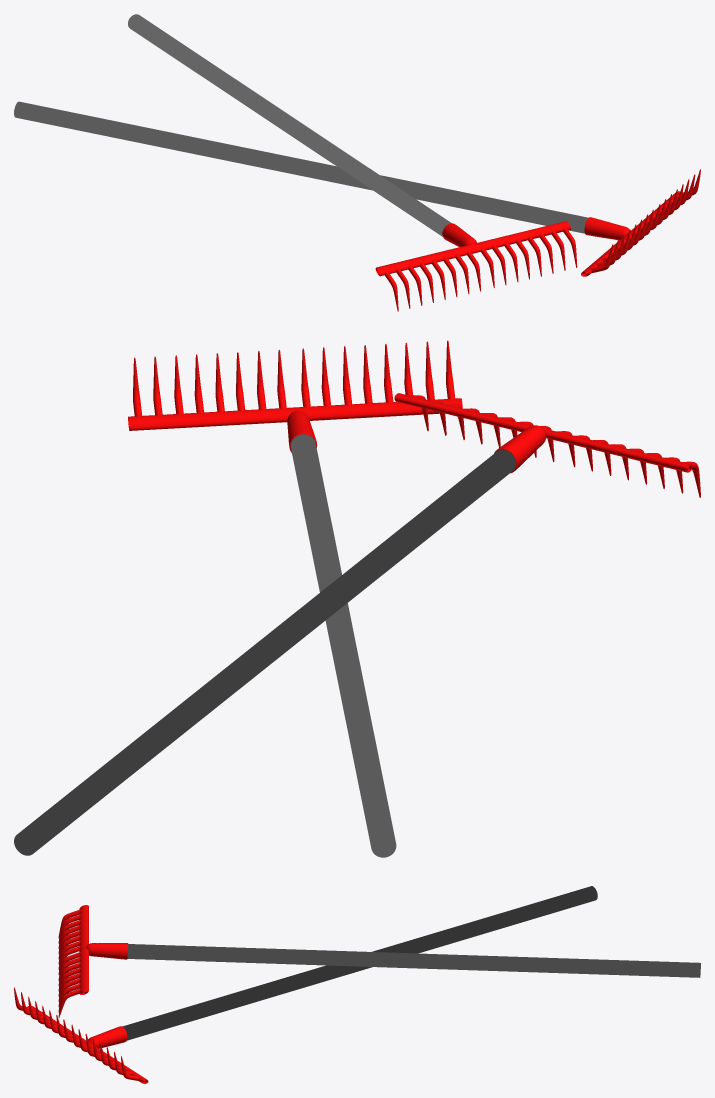
Rendered from Garden Snew Tool obj.obj.
The picture shows the model from 3 angles, top to bottom: view 1: azimuth 30°, elevation 25°; view 2: azimuth 150°, elevation 25°; view 3: azimuth 270°, elevation 25°; orthographic projection. The views are drawn at different scales.
Parts seen in each view (by area): view 1: Cylinder02, Cylinder01; view 2: Cylinder01, Cylinder02; view 3: Cylinder01, Cylinder02.
Boxes of the visible parts, x1,y1,x2,y2 form: Cylinder02: (14, 101, 700, 276); Cylinder01: (128, 14, 577, 311); Cylinder01: (14, 393, 700, 855); Cylinder02: (128, 340, 462, 857); Cylinder01: (58, 905, 700, 1017); Cylinder02: (14, 886, 597, 1083).
Bounding box in the file's own units: 40.45 × 3.82 × 61.67.
